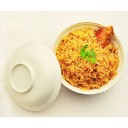briyani: (61, 31, 115, 86)
